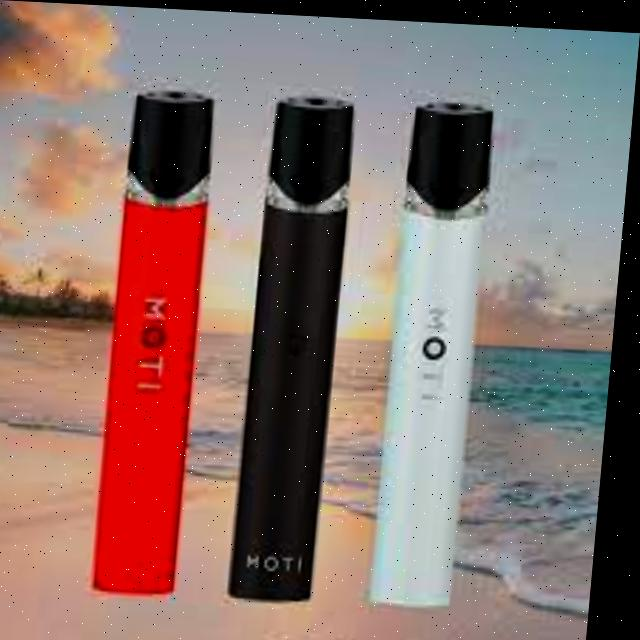vape: (240, 87, 360, 601), (99, 85, 220, 594), (380, 92, 496, 603)
